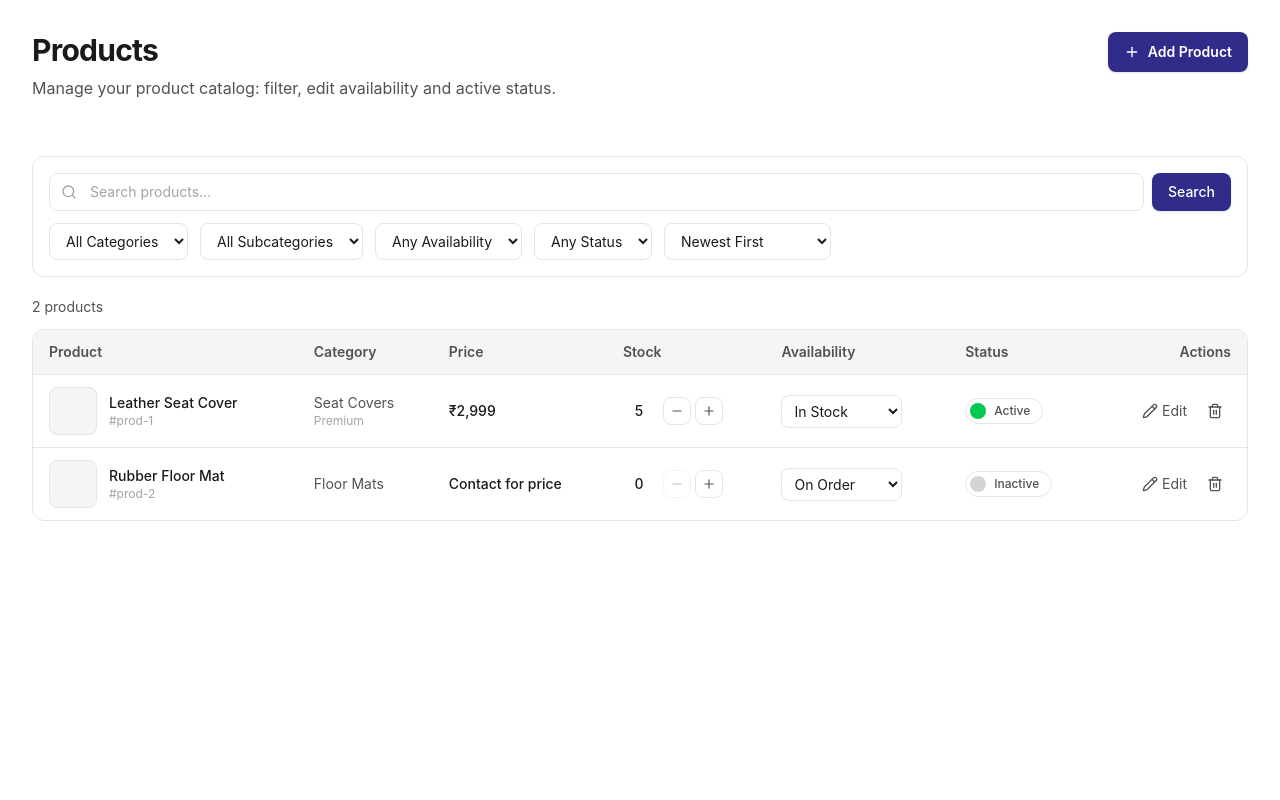
it: ProductsAdminPage › surfaces a 409 error when delete is blocked
The width and height of the screenshot is (1280, 800).
Expected: the text "Leather Seat Cover" is shown, [109,393,238,413]
Click the button named "delete leather seat cover" at (1215, 411), box [1199,395,1231,427]
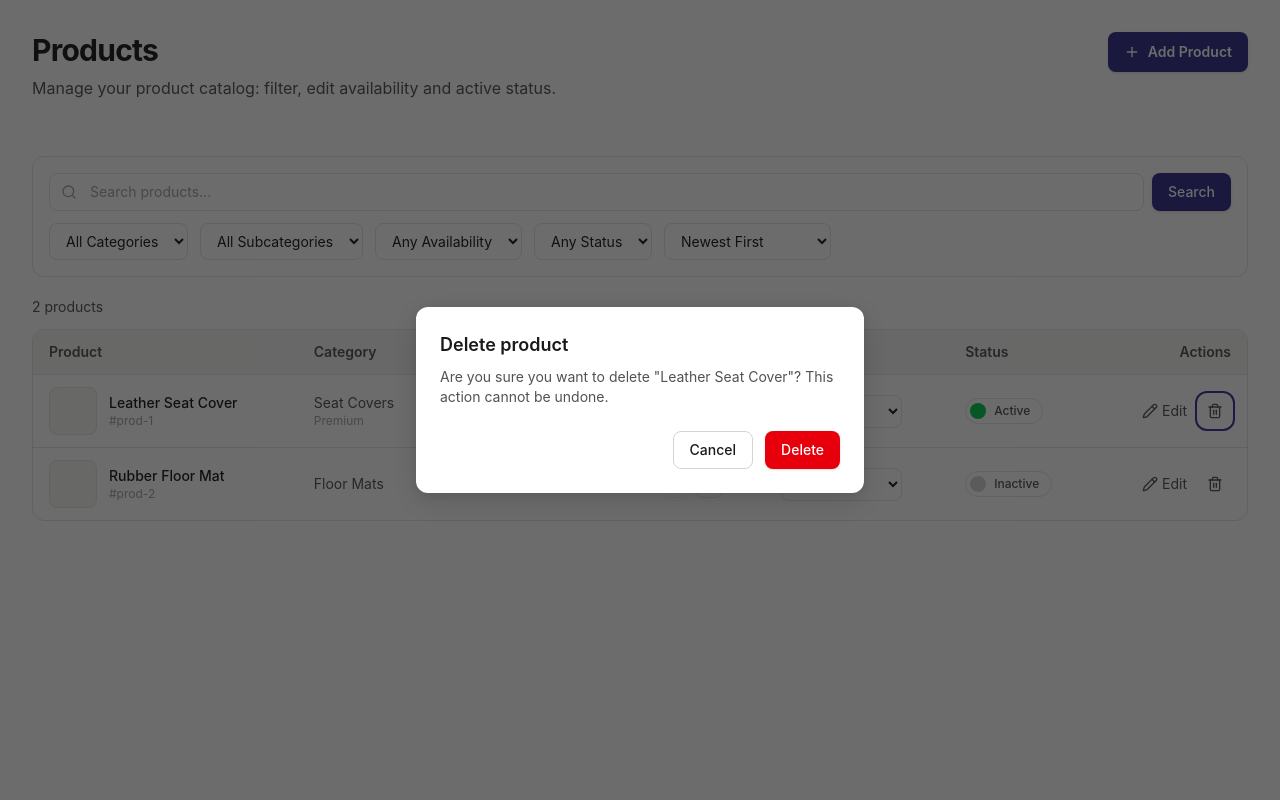
Click the button "Delete" at (803, 450), box [765,431,840,469]
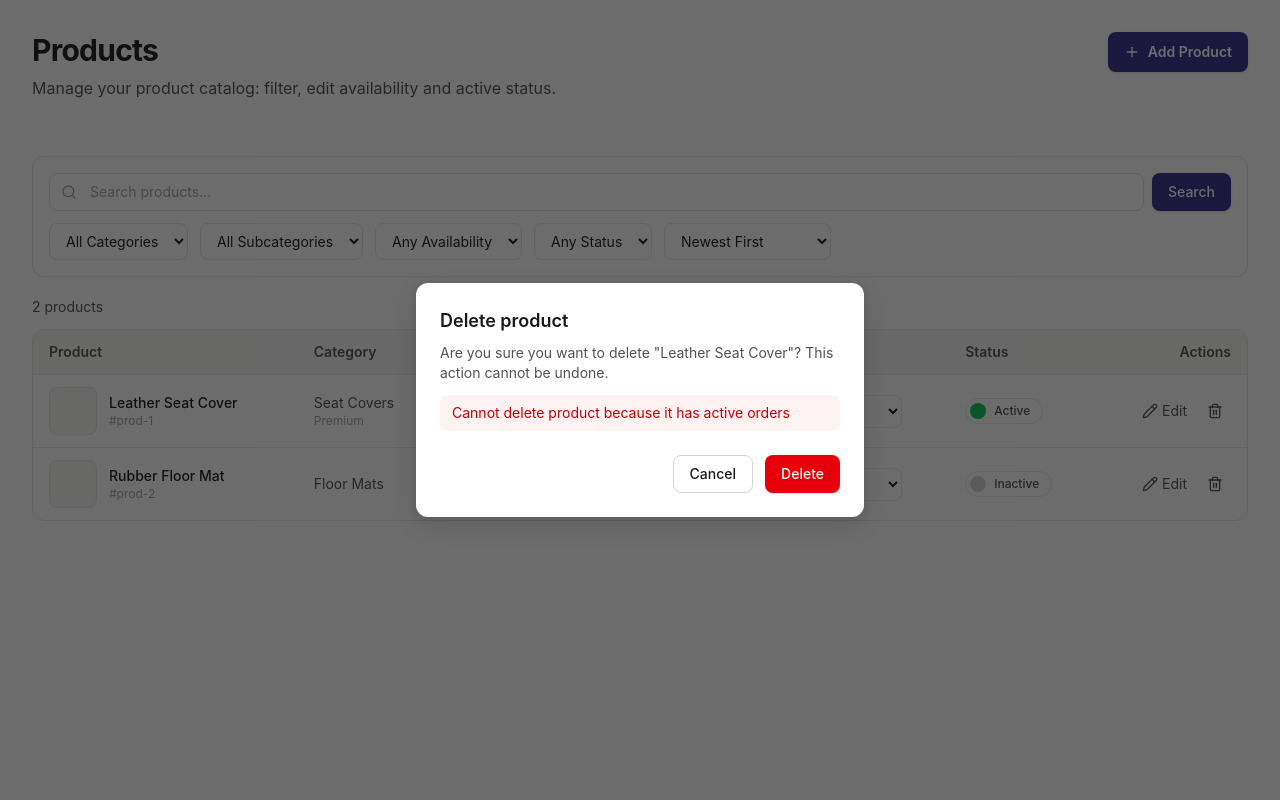
Expected: the text "Leather Seat Cover" is shown, [109,393,238,413]
Now the message reads "Cannot delete product because it has active orders", box [452,404,790,421]
